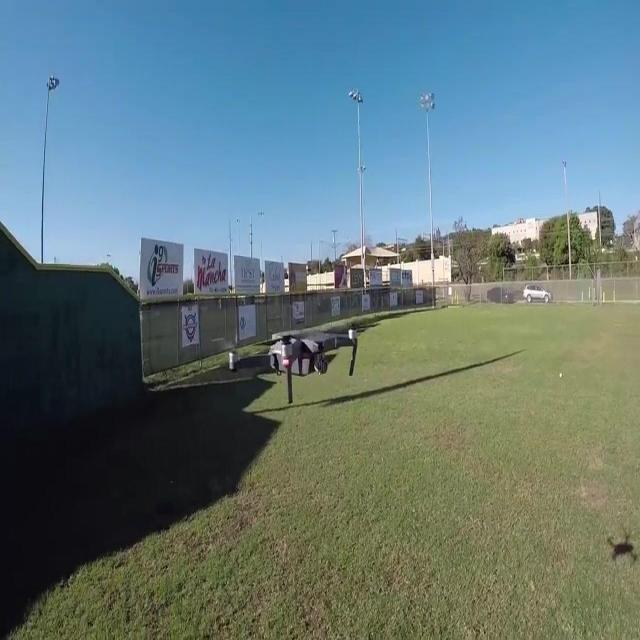drone: (226, 322, 364, 406)
